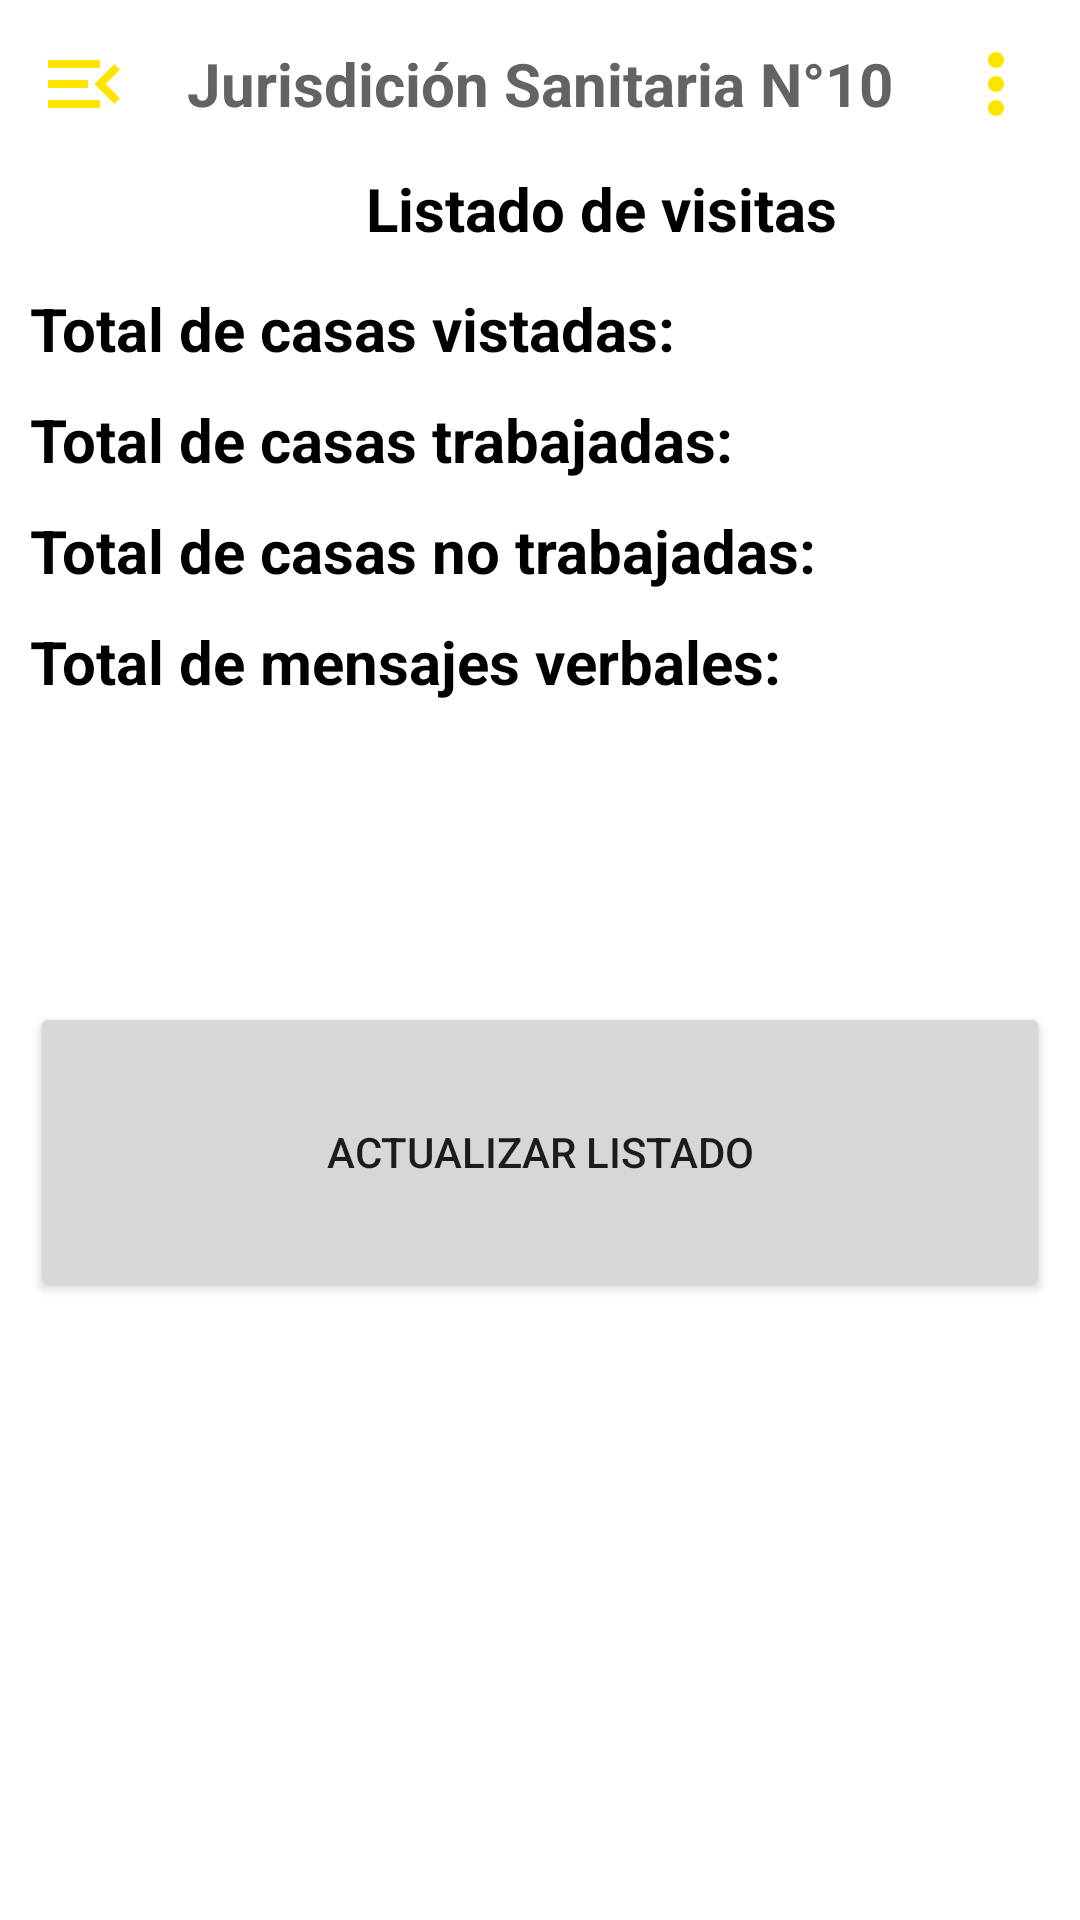

Where to tap for icons on this 1080w x 1920h app screen, as [x,y]:
menu: [84,84]
more: [996,84]
